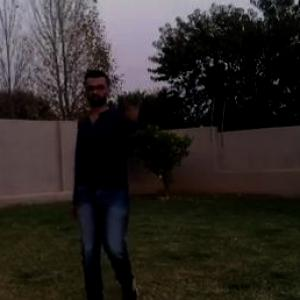takeoff-hand: (123, 91, 148, 126)
